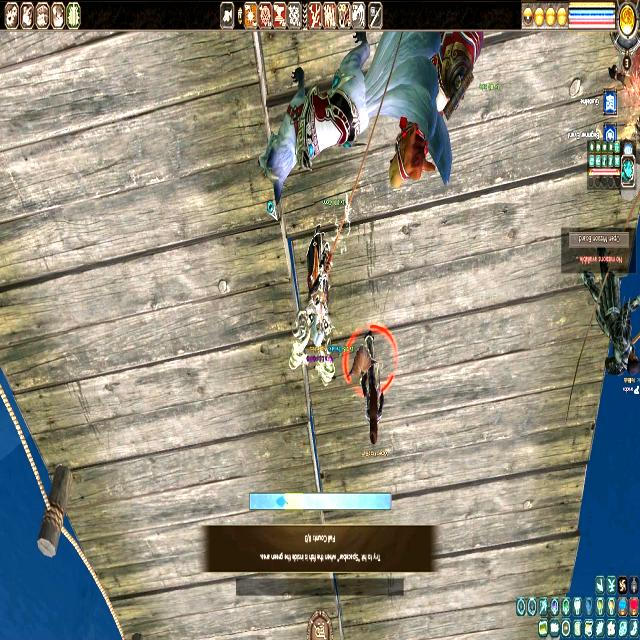fishes: (274, 496, 289, 508)
